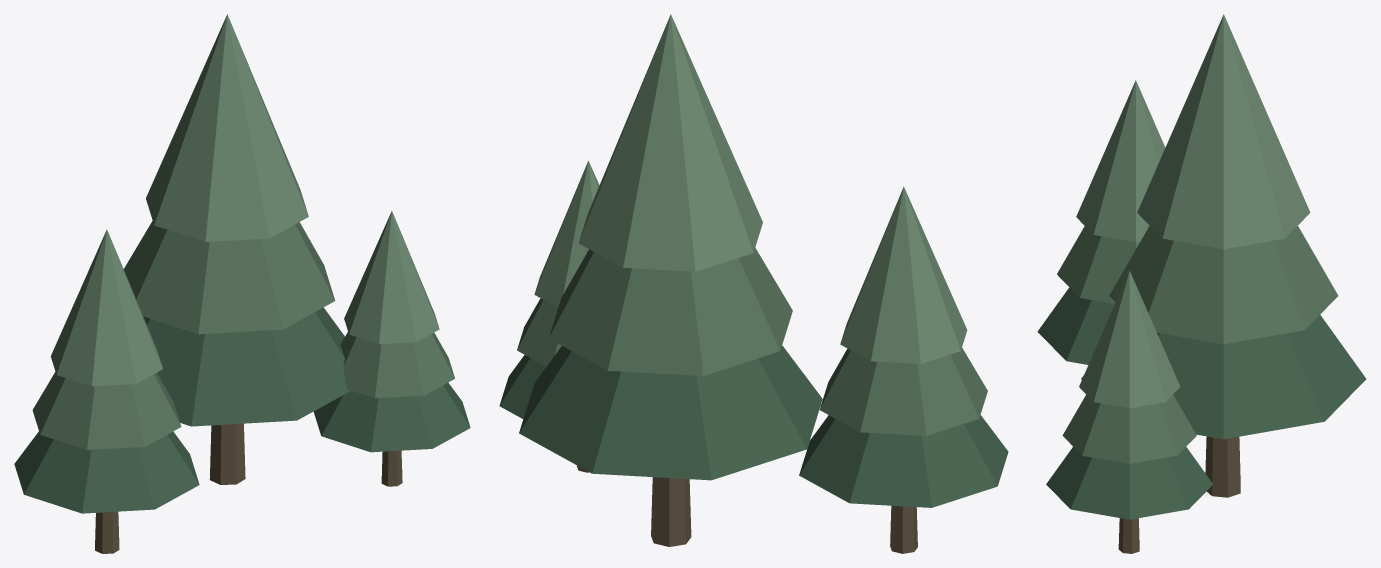
The model's file is juniper-cluster.glb.
3 renders of one model, left to right at view 1: azimuth 30°, elevation 25°; view 2: azimuth 150°, elevation 25°; view 3: azimuth 270°, elevation 25°, orthographic. The views are drawn at different scales.
Parts seen in each view (by area): view 1: juniper-cluster; view 2: juniper-cluster; view 3: juniper-cluster.
Part boxes in pixels (x1,y1,x2,y2): juniper-cluster: (14, 14, 470, 553); juniper-cluster: (499, 14, 1008, 553); juniper-cluster: (1037, 14, 1366, 553).
Bounding box in the file's own units: 5.87 × 5.97 × 3.74.
